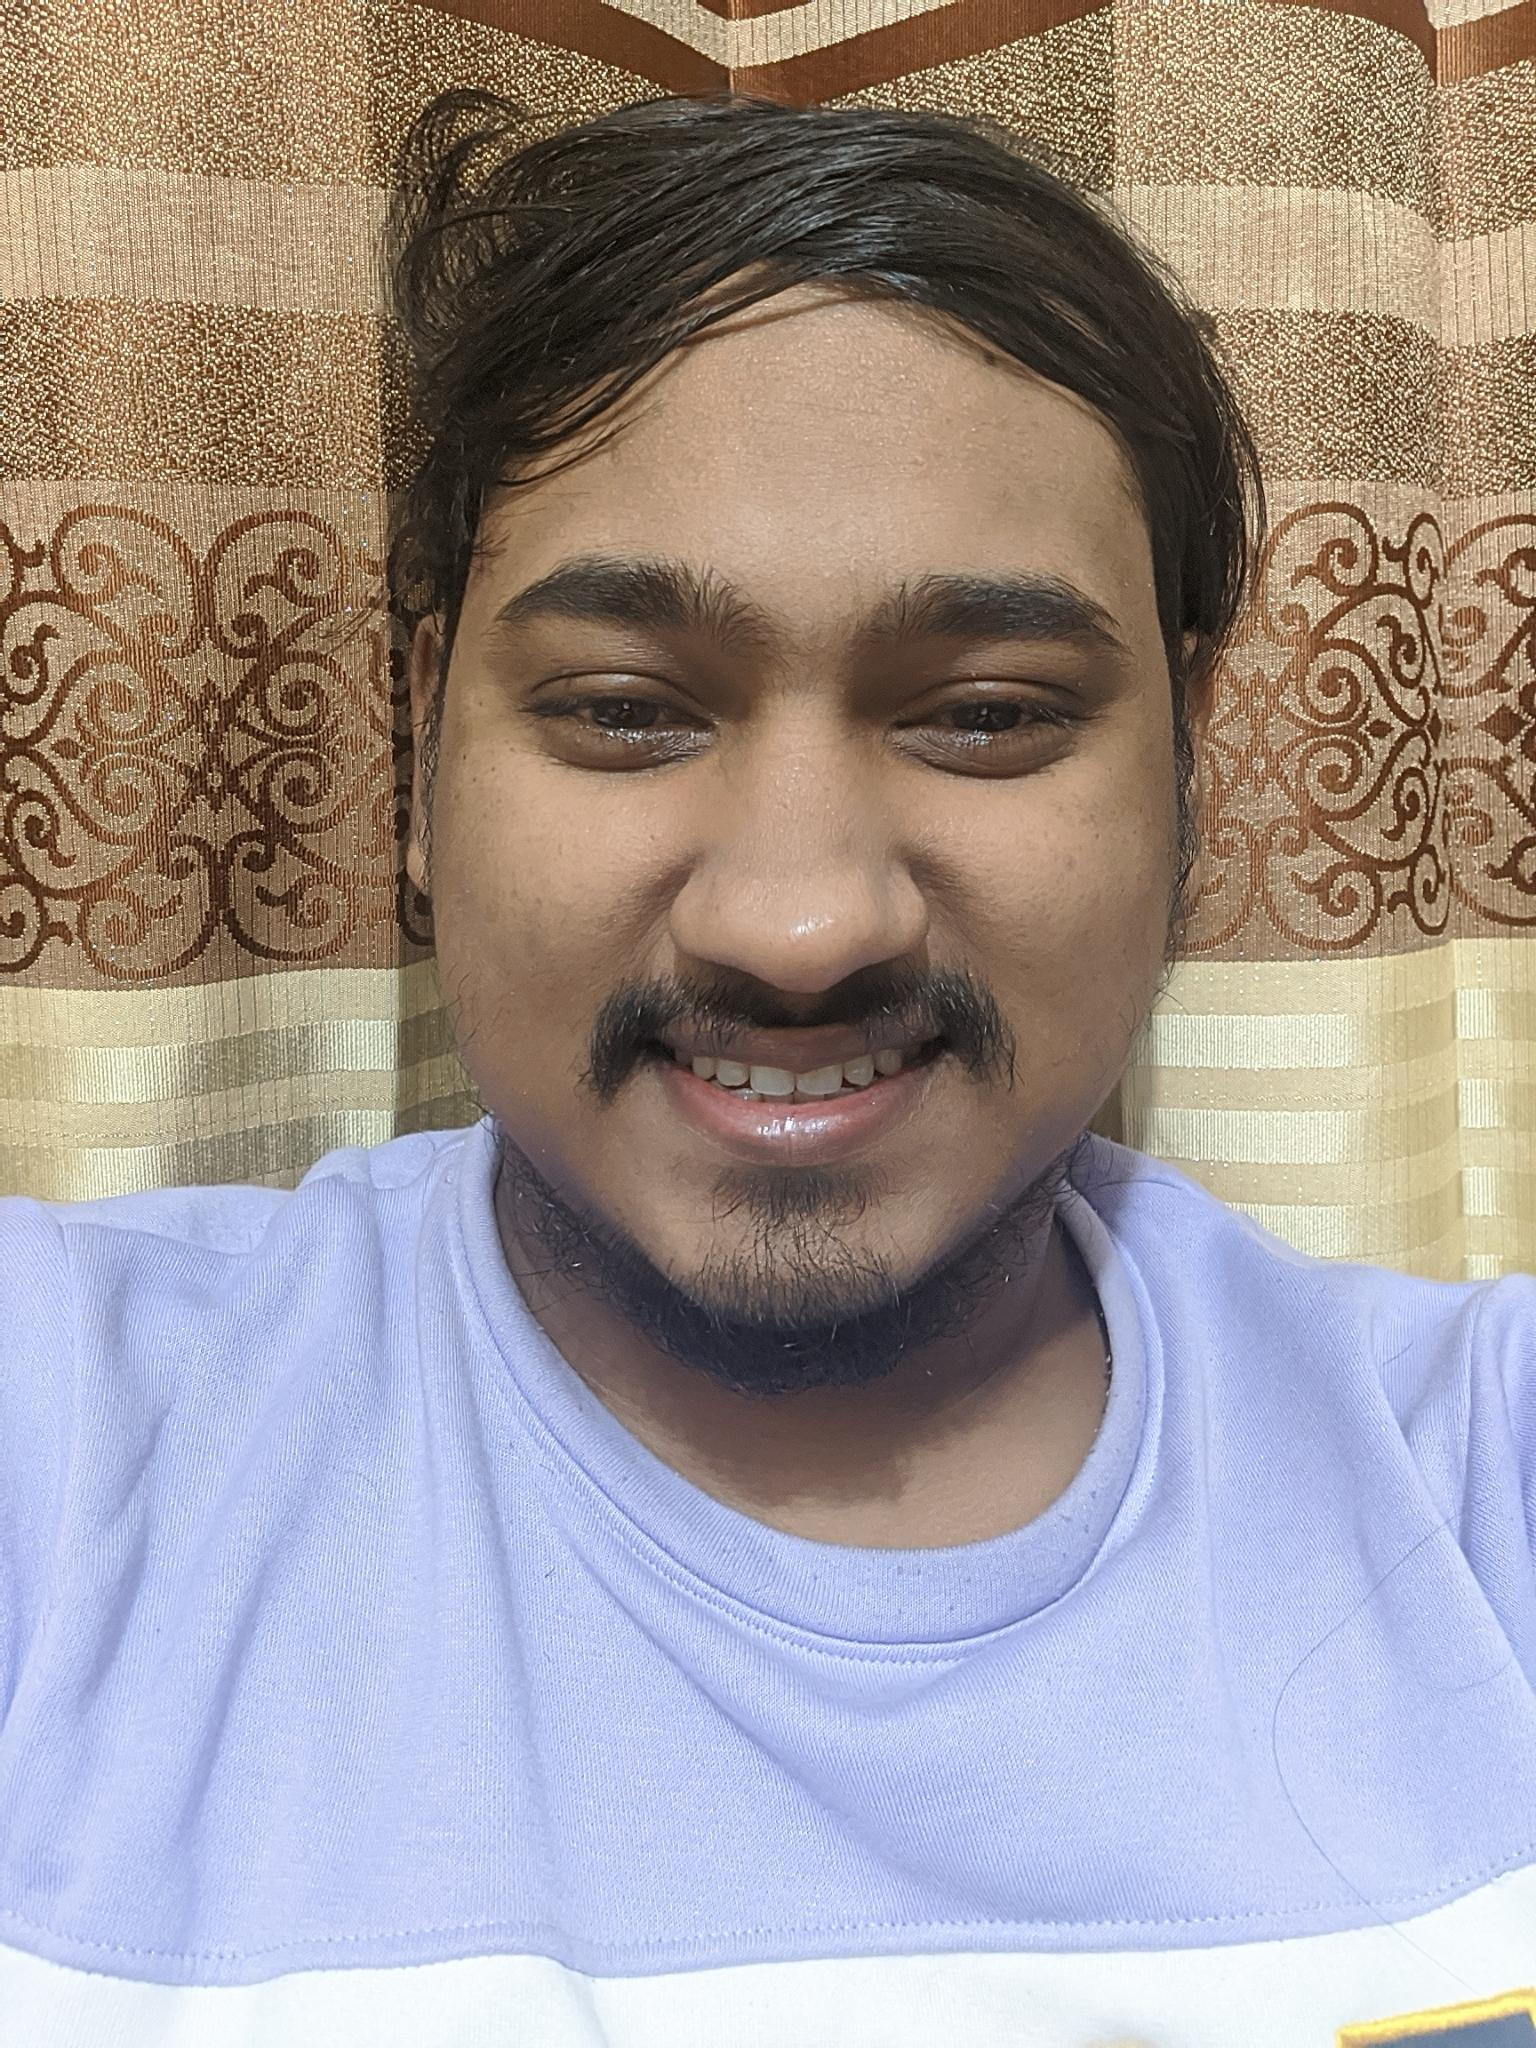Happy: (423, 423, 1144, 1284)
